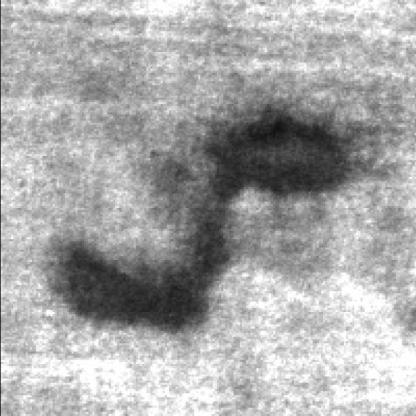patches: (47, 221, 226, 326), (206, 112, 349, 196)
